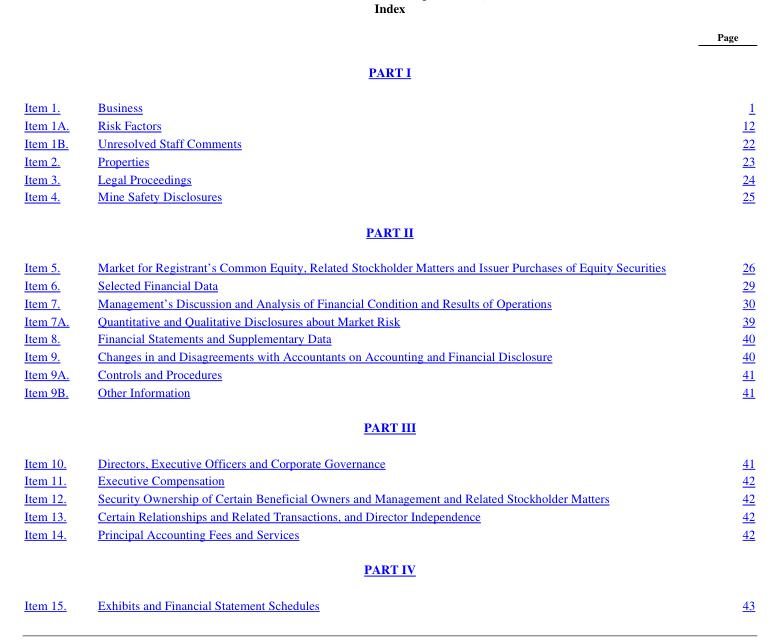table: (23, 29, 754, 612)
table column: (82, 29, 690, 612), (690, 29, 754, 612), (23, 29, 82, 612)
table column header: (23, 29, 754, 53)
table projected row header: (23, 53, 754, 89), (23, 213, 754, 249), (23, 408, 754, 444), (23, 550, 754, 586)
table row: (23, 53, 754, 89), (23, 213, 754, 249), (23, 408, 754, 444), (23, 550, 754, 586), (23, 186, 754, 213), (23, 381, 754, 408), (23, 523, 754, 550), (23, 89, 754, 115), (23, 249, 754, 275), (23, 444, 754, 470), (23, 586, 754, 612), (23, 29, 754, 53), (23, 115, 754, 133), (23, 150, 754, 168), (23, 168, 754, 186), (23, 275, 754, 293), (23, 310, 754, 328), (23, 328, 754, 346), (23, 346, 754, 364), (23, 470, 754, 488), (23, 488, 754, 506), (23, 133, 754, 150), (23, 293, 754, 310), (23, 364, 754, 381), (23, 506, 754, 523)
